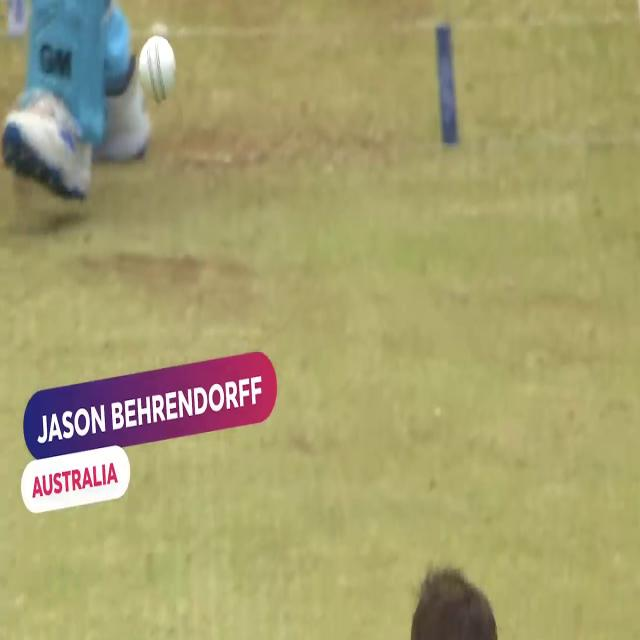ball: (134, 34, 180, 108)
